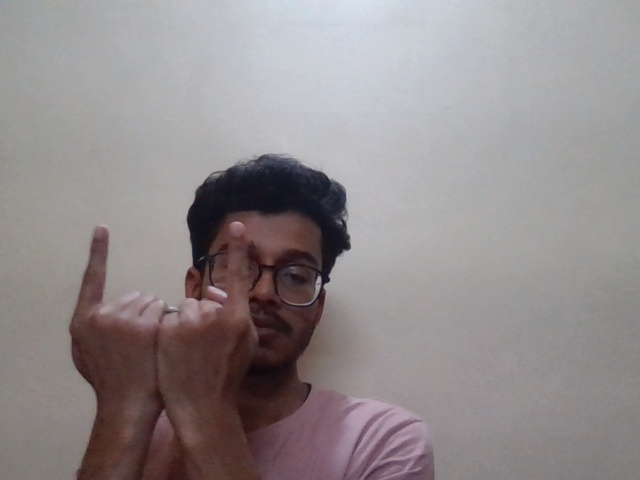when: (60, 210, 290, 393)
